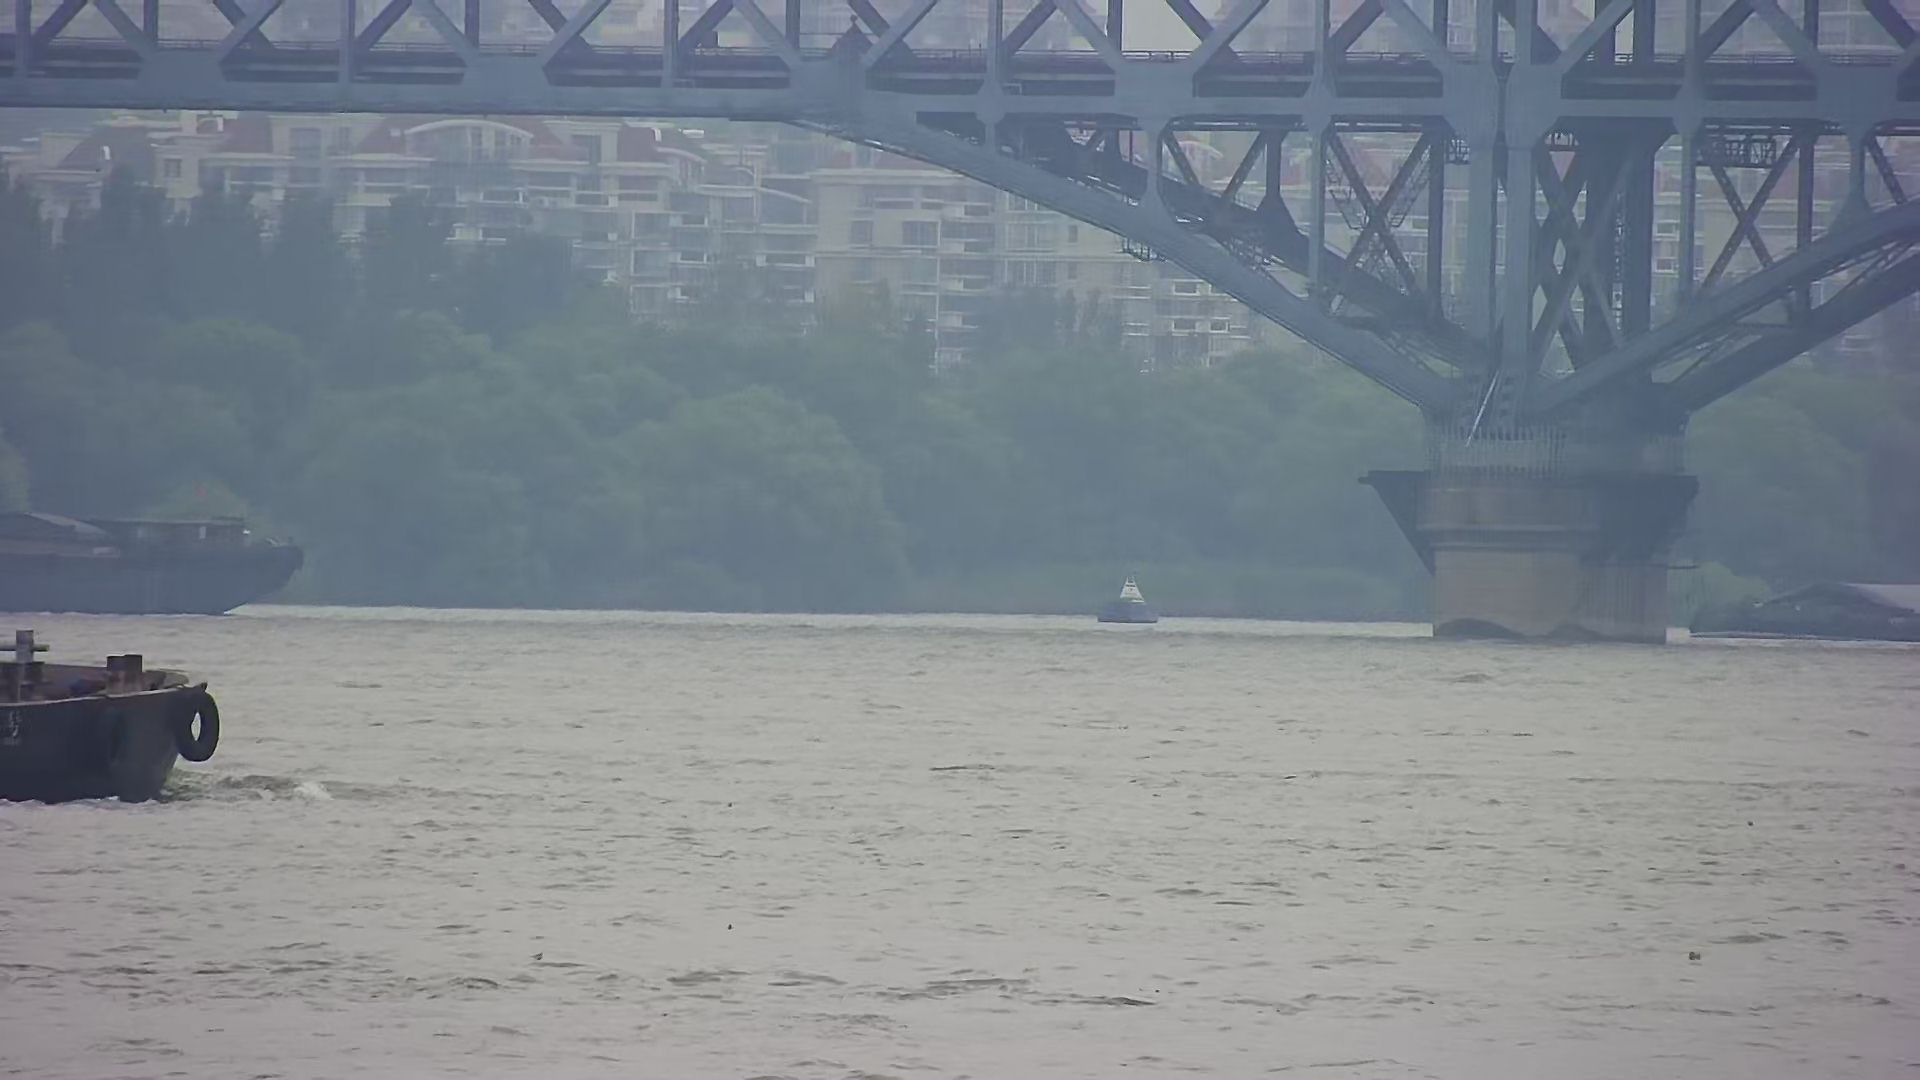boat: (1, 625, 236, 810), (1095, 560, 1171, 632)
bridge: (1, 1, 1909, 651)
ship: (1, 491, 328, 617)
